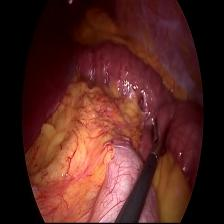Grasper: (149, 116, 171, 165)
